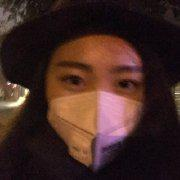OK: (51, 50, 147, 157)
